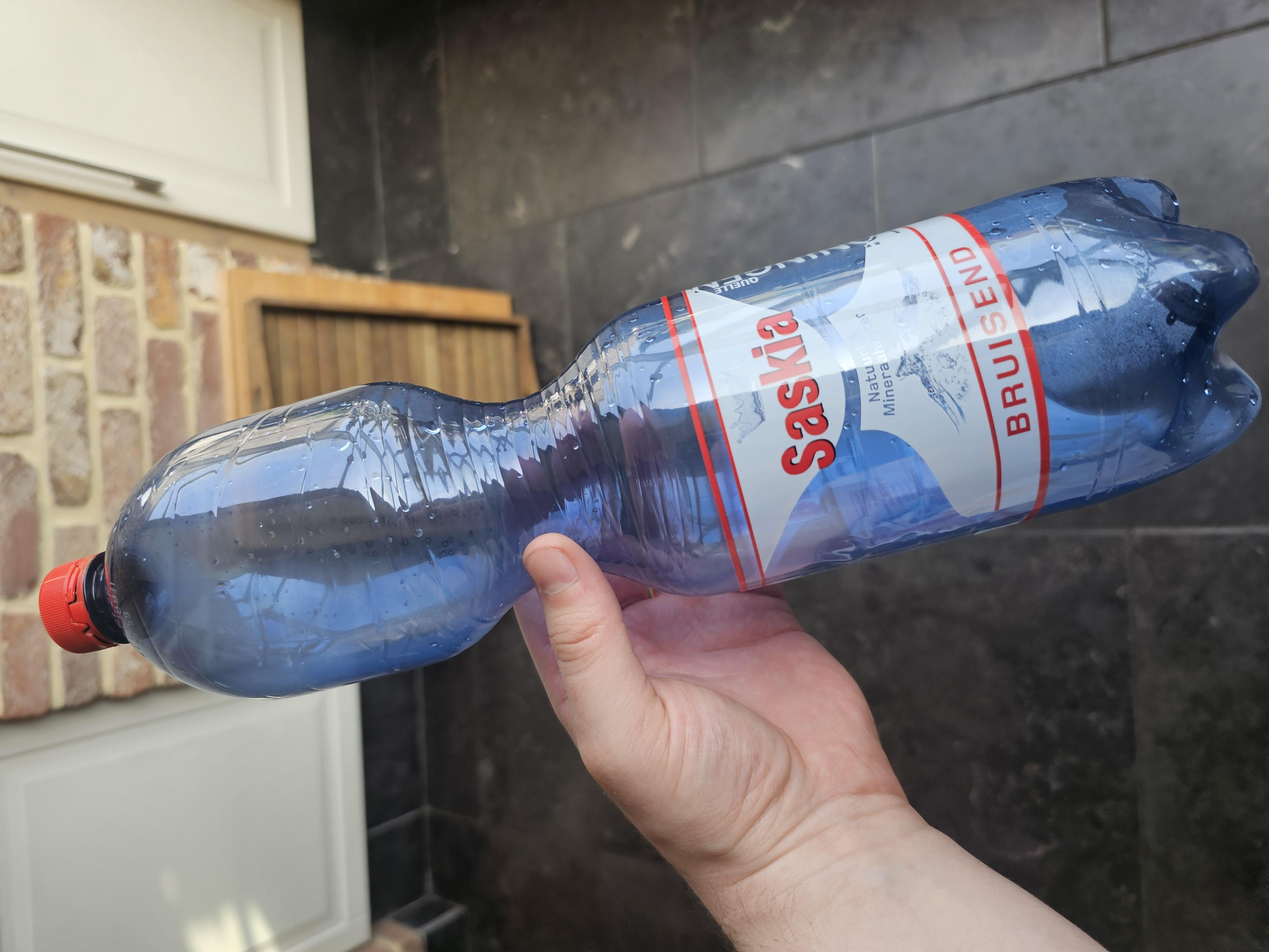Plastic: (330, 30, 1037, 951)
